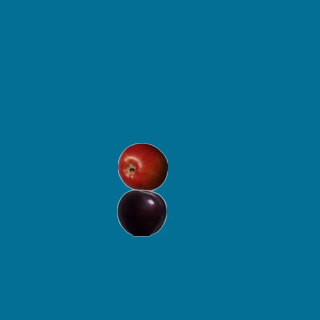Apple Braeburn: (117, 142, 167, 192)
Cherry Wax Black: (116, 187, 166, 237)
